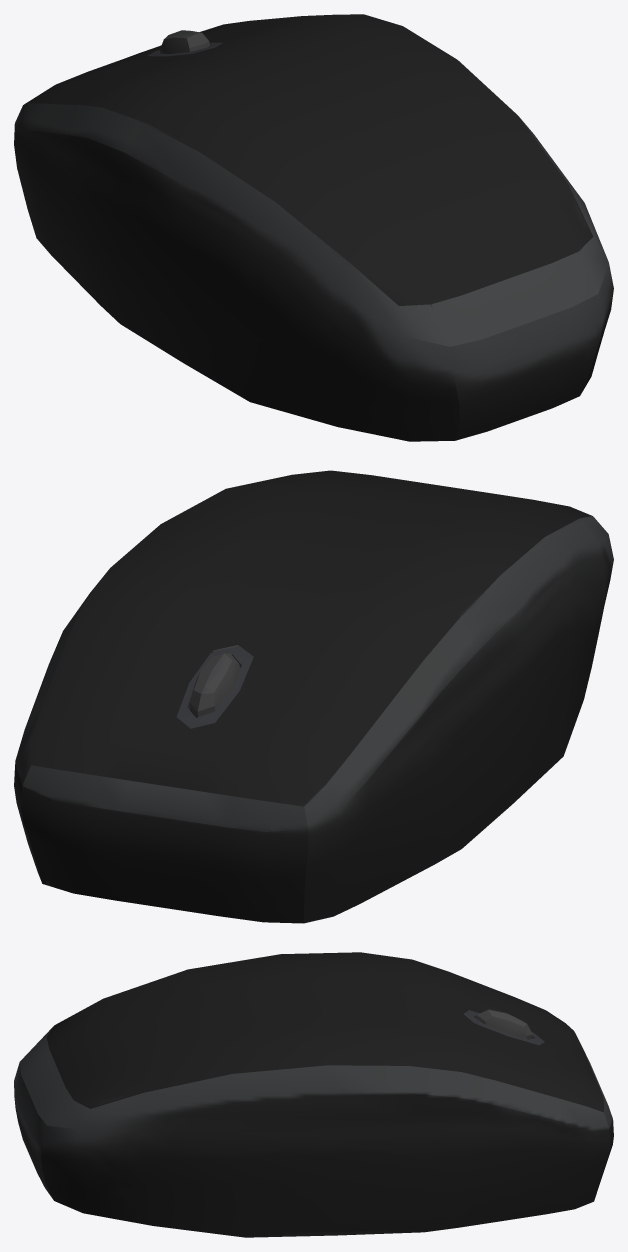
The model's file is NSMouse.gltf.
3 views of the same model, one above another, from view 1: azimuth 30°, elevation 25°; view 2: azimuth 150°, elevation 25°; view 3: azimuth 270°, elevation 25° (orthographic). The views are drawn at different scales.
Parts seen in each view (by area): view 1: Bianco Mouse; view 2: Bianco Mouse; view 3: Bianco Mouse.
Part boxes in pixels (x1,y1,x2,y2): Bianco Mouse: (14, 14, 613, 441); Bianco Mouse: (14, 470, 613, 923); Bianco Mouse: (14, 952, 613, 1237).
Size of the model in its own units: 0.0415 by 0.0256 by 0.0791.
1 material, 1 textured.
